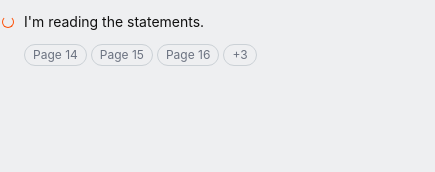
Scenario: ActivityTab › shows the first three pages of a long step and opens the rest
Later steps or results of the test are not shown.
Check: the number of buttons "Page 14" is 3, box [24,44,87,66]; [91,44,153,66]; [157,44,219,66]
Step 1. Click the button named "3 more pages" → (240, 55), box [223,44,257,66]
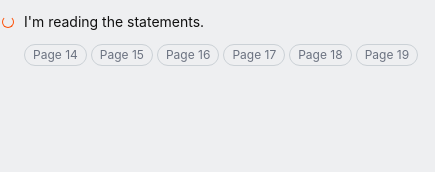
Check: the number of buttons "Page 14" is 6, box [24,44,87,66]; [91,44,153,66]; [157,44,219,66]; [223,44,285,66]; [289,44,352,66]; [356,44,418,66]
